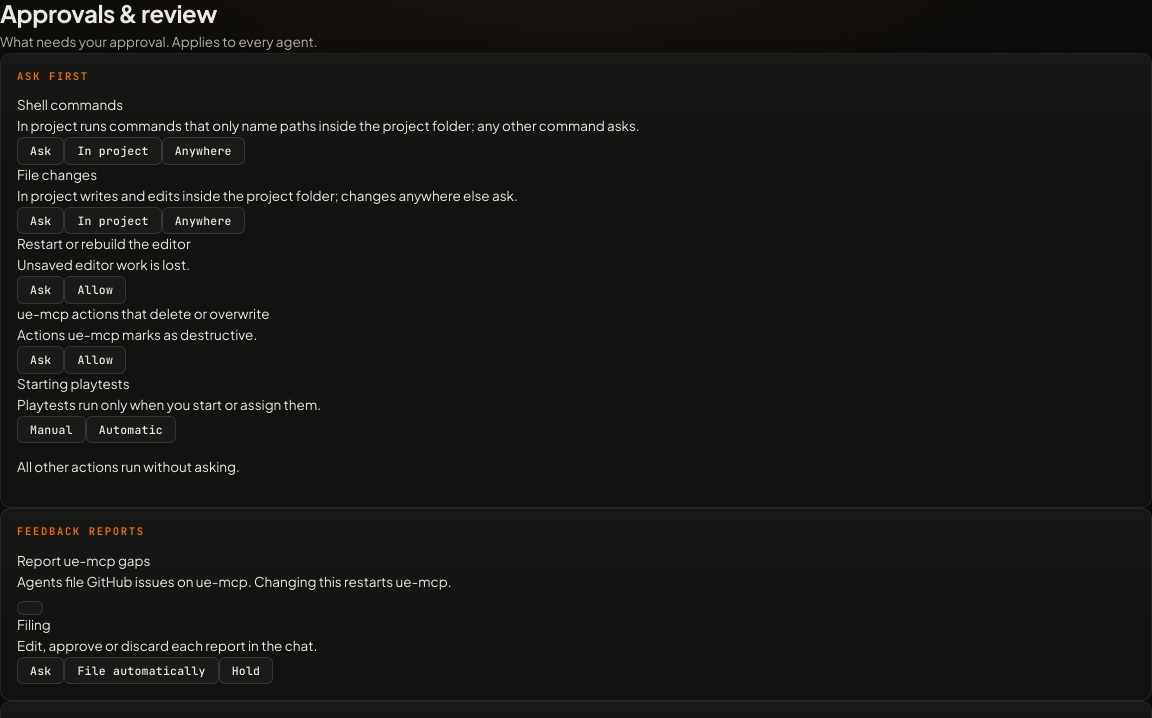
it: Approvals & review: shared settings › says ue-mcp restarts when the feedback tool changes
The width and height of the screenshot is (1152, 718).
Click the switch named "Report ue-mcp gaps". click: (30, 608)
box: [17,601,43,615]
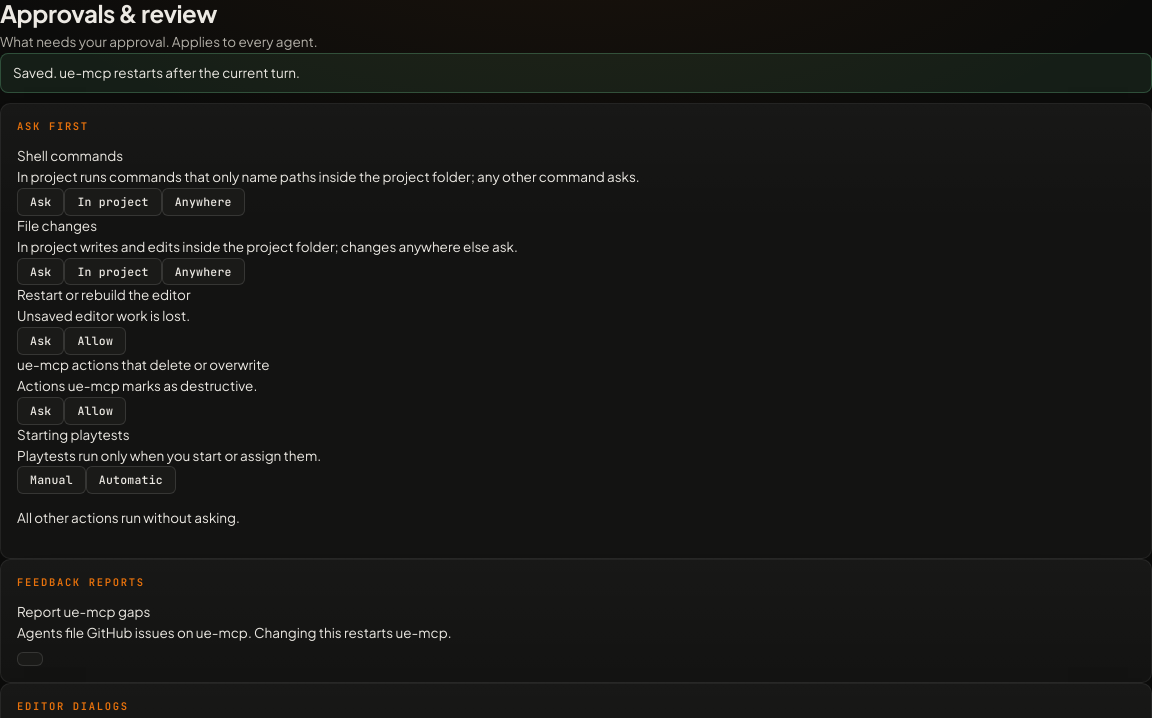
Now the text "Saved. ue-mcp restarts after the current turn." is shown, box [0,52,1151,93]
